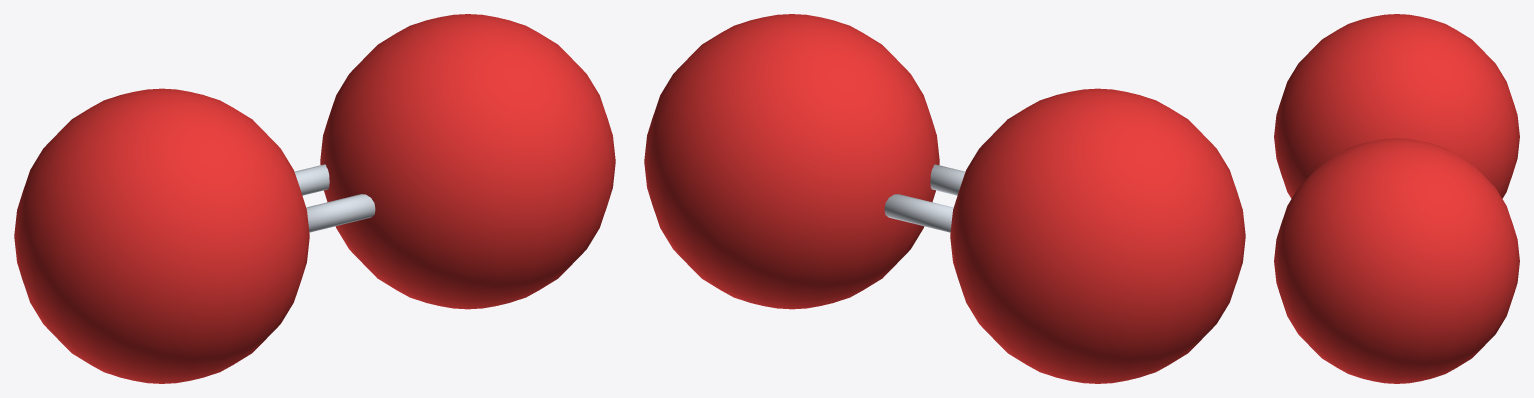
Rendered from oxygen_o2.glb.
3 renders of one model, left to right at view 1: azimuth 30°, elevation 25°; view 2: azimuth 150°, elevation 25°; view 3: azimuth 270°, elevation 25°, orthographic. The views are drawn at different scales.
Parts seen in each view (by area): view 1: Oxygen_1, Oxygen_2, DoubleBond_O2_1, DoubleBond_O2_2; view 2: Oxygen_1, Oxygen_2, DoubleBond_O2_2, DoubleBond_O2_1; view 3: Oxygen_2, Oxygen_1.
Part boxes in pixels (x1,y1,x2,y2): Oxygen_1: (14,88,309,383); Oxygen_2: (320,14,615,309); DoubleBond_O2_1: (306,194,375,232); DoubleBond_O2_2: (294,164,329,195); Oxygen_1: (950,88,1245,383); Oxygen_2: (644,14,939,309); DoubleBond_O2_2: (884,194,953,232); DoubleBond_O2_1: (930,164,965,195); Oxygen_2: (1274,138,1519,383); Oxygen_1: (1274,14,1519,198).
Size of the model in its own units: 1.8 by 0.82 by 0.82.
